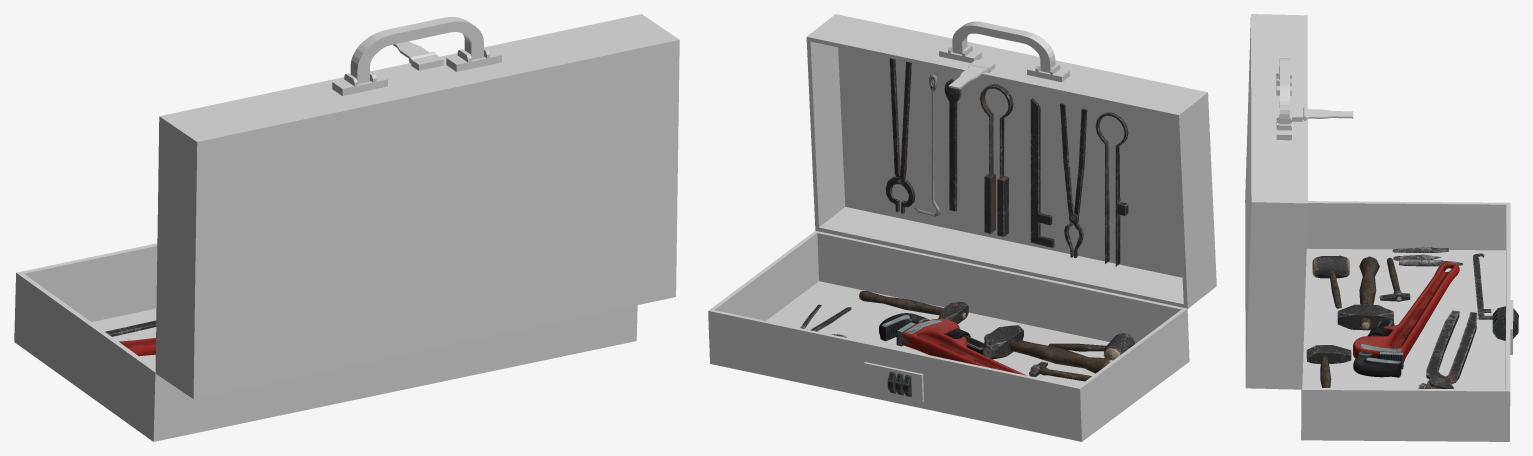
Rendered from toolbox killer tools.fbx.
3 renders of one model, left to right at view 1: azimuth 30°, elevation 25°; view 2: azimuth 150°, elevation 25°; view 3: azimuth 270°, elevation 25°, orthographic. The views are drawn at different scales.
Parts seen in each view (by area): view 1: briefcase_upper, briefcase_lower; view 2: briefcase_upper, briefcase_lower, 10299_Monkey-Wrench_v1_L3_0, Holder01_low, Hammer01_manche_low, Pince4_low, Key01_low, Pince3_low, Holder02_low, Spoon_low, Hammer3_manche_low, Spike01_low (+1 smaller); view 3: briefcase_lower, briefcase_upper, 10299_Monkey-Wrench_v1_L3_0, Pince1_low, Hammer01_manche_low, Hammer4_top_low, Hammer3_top_low, Key02_low, wheel1_low, Burin02_low, Hammer3_manche_low, Burin01_low (+1 smaller).
Part boxes in pixels (bbox=[...]): briefcase_upper: bbox=[155, 14, 679, 399]; briefcase_lower: bbox=[14, 243, 637, 441]; briefcase_upper: bbox=[806, 14, 1216, 308]; briefcase_lower: bbox=[708, 230, 1189, 441]; 10299_Monkey-Wrench_v1_L3_0: bbox=[879, 313, 1026, 375]; Holder01_low: bbox=[980, 84, 1013, 236]; Hammer01_manche_low: bbox=[982, 325, 1113, 373]; Pince4_low: bbox=[885, 58, 915, 213]; Key01_low: bbox=[1030, 97, 1054, 247]; Pince3_low: bbox=[1060, 103, 1087, 257]; Holder02_low: bbox=[1095, 112, 1128, 266]; Spoon_low: bbox=[944, 79, 961, 211]; Hammer3_manche_low: bbox=[859, 291, 966, 319]; Spike01_low: bbox=[914, 74, 939, 216]; briefcase_lower: bbox=[1301, 201, 1513, 441]; briefcase_upper: bbox=[1245, 14, 1353, 389]; 10299_Monkey-Wrench_v1_L3_0: bbox=[1353, 262, 1459, 377]; Pince1_low: bbox=[1418, 310, 1477, 388]; Hammer01_manche_low: bbox=[1337, 256, 1393, 330]; Hammer4_top_low: bbox=[1312, 255, 1349, 278]; Hammer3_top_low: bbox=[1306, 345, 1351, 363]; Key02_low: bbox=[1473, 253, 1492, 319]; wheel1_low: bbox=[1492, 314, 1518, 340]; Burin02_low: bbox=[1399, 259, 1462, 266]; Hammer3_manche_low: bbox=[1320, 356, 1331, 387]; Burin01_low: bbox=[1392, 247, 1448, 252].
Size of the model in its own units: 333 by 247 by 214.
Materials: 3 (3 with a texture image).
